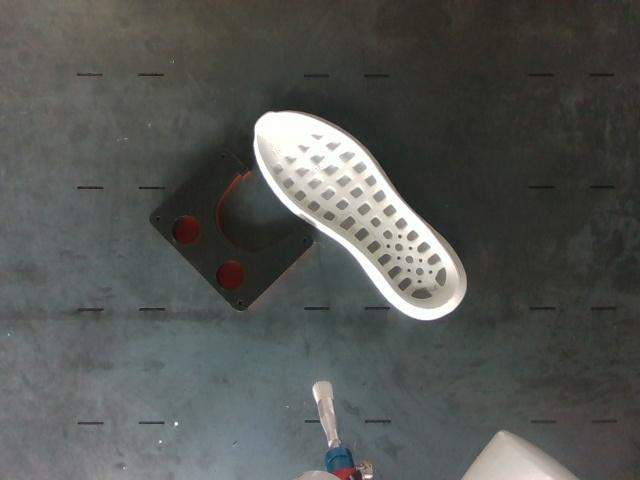shoes: (256, 112, 458, 310)
